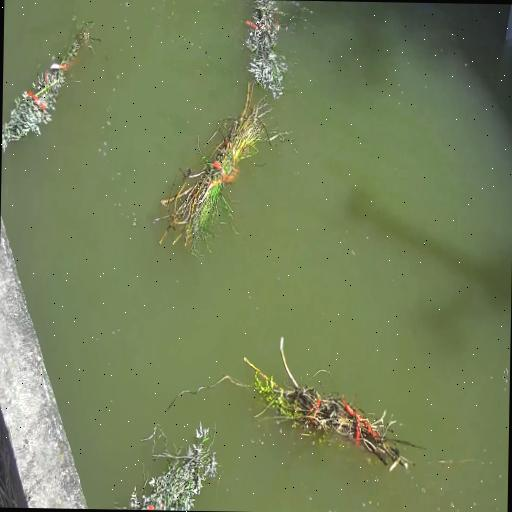twig: (244, 337, 419, 470), (155, 84, 269, 250), (2, 29, 96, 152), (122, 422, 218, 510), (246, 0, 287, 98)
